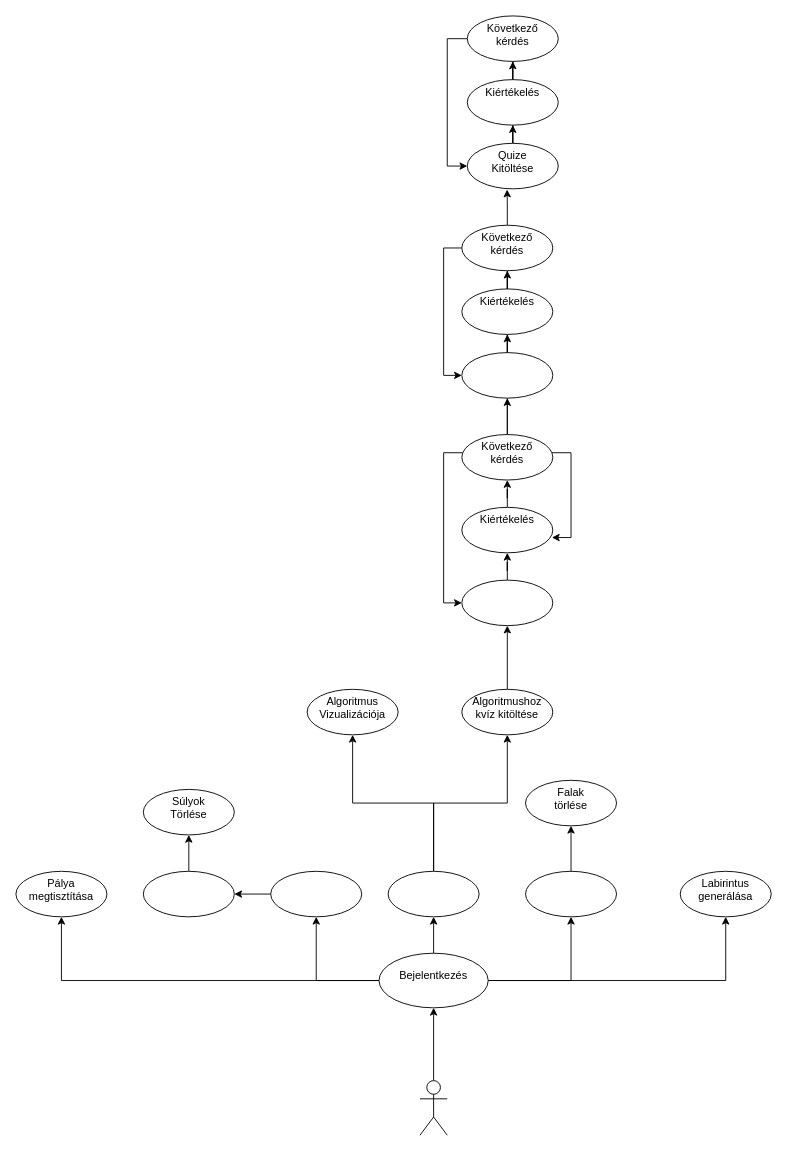
This 787x1170 diagram has some shape labels left out. The shapes that lost their labels are listed below. From the top down, each one's centre as x and y in pixels, then its label:
At pixel 507 375: "Drag and Drop kitöltése".
At pixel 507 602: "DropDown Kitölse".
At pixel 188 893: "Súlyok lehelyezése".
At pixel 316 893: "Súly választása".
At pixel 433 893: "Algoritmus kiválasztsa".
At pixel 571 893: "Falak lehelyezése".
At pixel 433 1107: "Actor".
